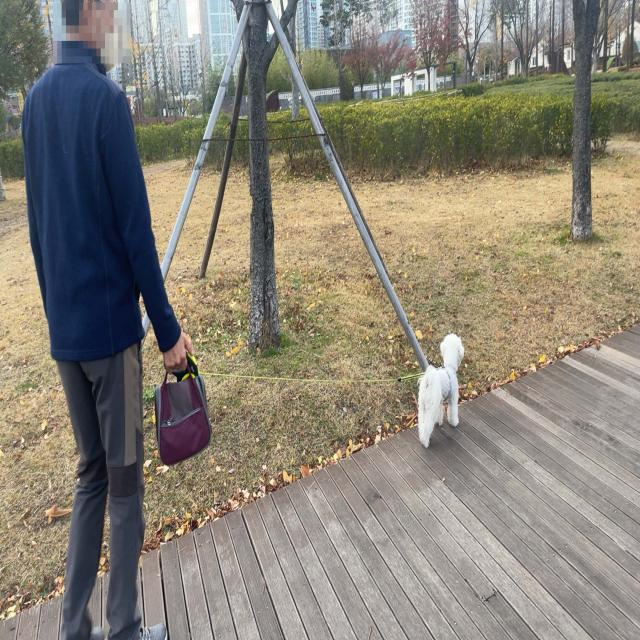Leashed_Dog: (98, 334, 464, 450)
